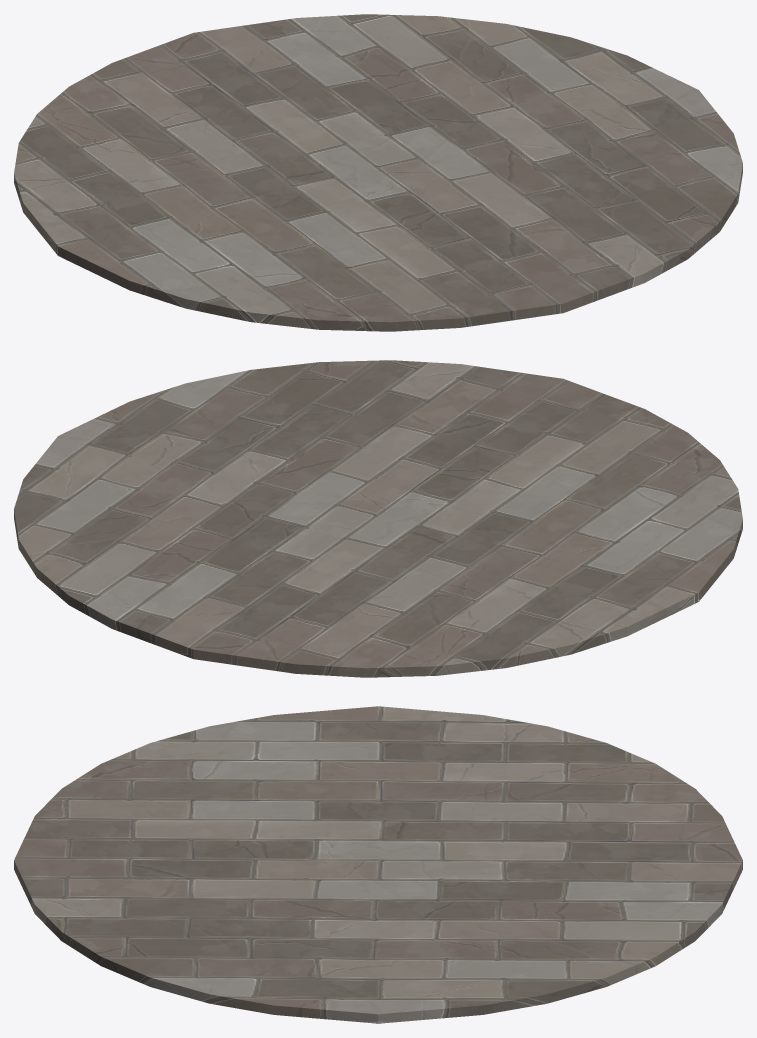
The model's file is tower_floor_round_simple.fbx.
3 renders of one model, top to bottom at view 1: azimuth 30°, elevation 25°; view 2: azimuth 150°, elevation 25°; view 3: azimuth 270°, elevation 25°, orthographic.
Visible parts, largest first — view 1: SM_Bld_Castle_Floor_Stone_73; view 2: SM_Bld_Castle_Floor_Stone_73; view 3: SM_Bld_Castle_Floor_Stone_73.
Boxes of the visible parts, x1,y1,x2,y2 form: SM_Bld_Castle_Floor_Stone_73: [14, 14, 742, 331]; SM_Bld_Castle_Floor_Stone_73: [14, 360, 742, 677]; SM_Bld_Castle_Floor_Stone_73: [14, 706, 742, 1023].
Bounding box in the file's own units: 20 × 0.2848 × 20.
